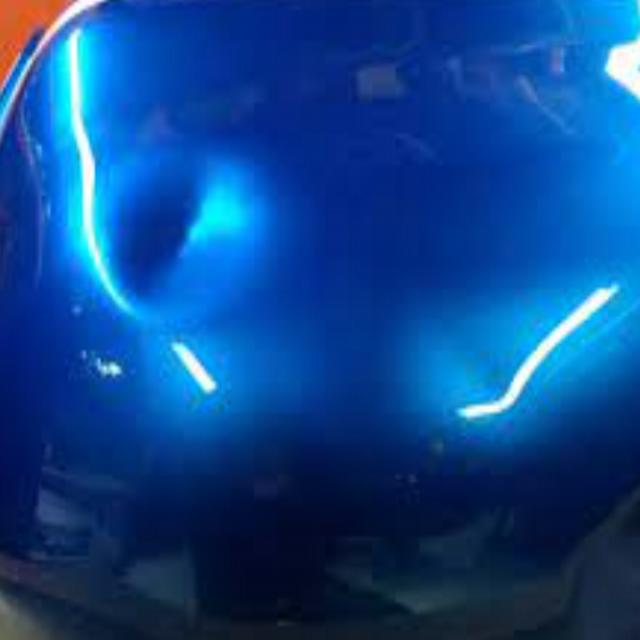dents: (70, 143, 301, 334)
